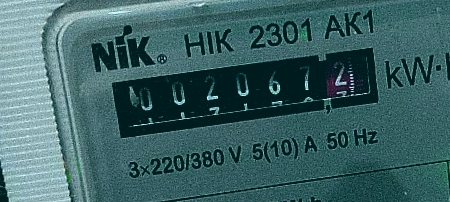0: (134, 83, 156, 114), (167, 76, 188, 107), (230, 67, 251, 97)
2: (328, 57, 350, 88), (200, 72, 221, 103)
6: (263, 66, 284, 97)
7: (295, 61, 315, 93)
screen: (95, 31, 396, 152)
